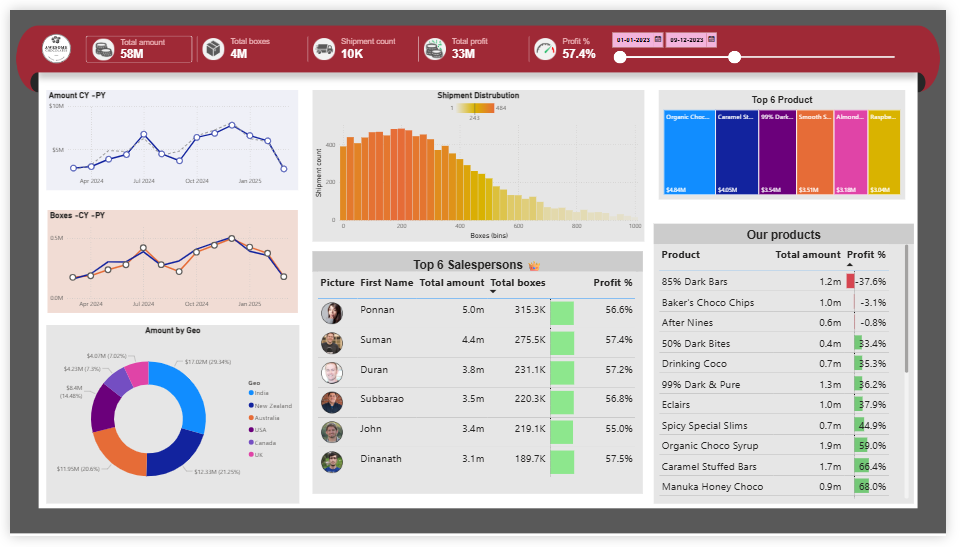

This screenshot's page, from the dashboard's own definition file:
{"tool":"powerbi","page":{"name":"Page 5","canvas":[1920,1080],"ordinal":4},"visuals":[{"type":"lineChart","title":"Amount CY -PY","fields":{"Y":["shipments.Total amount","shipments.Total Amount(last year)"],"Category":["calendar.Start of Month"]},"box":[75,163.9,516.7,205.6],"z":0},{"type":"lineChart","title":"Boxes -CY -PY","fields":{"Y":["shipments.Total boxes","shipments.Total boxs(last year)"],"Category":["calendar.Start of Month"]},"box":[77.8,411.1,513.9,211.1],"z":1000},{"type":"donutChart","title":"Amount by Geo","fields":{"Category":["locations.Geo"],"Y":["shipments.Total amount"]},"box":[75,647.2,519.4,366.7],"z":2000},{"type":"clusteredColumnChart","title":"Shipment Distrubution","fields":{"Category":["shipments.Boxes (bins)"],"Y":["shipments.Shipment count"]},"box":[619.4,163.9,680.6,311.1],"z":3000},{"type":"tableEx","title":"Top 6 Salespersons 👑","fields":{"Values":["people.Picture","people.First Name","shipments.Total amount","shipments.Total boxes","shipments.Profit %"]},"box":[619.4,494.4,677.8,497.2],"z":4000},{"type":"treemap","title":"Top 6 Product","fields":{"Values":["shipments.Total amount"],"Group":["products.Product"]},"box":[1330.6,163.9,505.6,225],"z":5000},{"type":"tableEx","title":"Our products","fields":{"Values":["products.Product","shipments.Total amount","shipments.Profit %"]},"box":[1319.4,438.9,516.7,508.3],"z":6000},{"type":"cardVisual","fields":{"Data":["shipments.Total amount","shipments.Total boxes","shipments.Shipment count","shipments.Total profit","shipments.Profit %"]},"box":[138.5,35.9,1161.5,89.7],"z":7000},{"type":"slicer","fields":{"Values":["calendar.cal_date"]},"box":[1223.1,35.9,612.8,89.7],"z":8000}]}

Visuals, with their boxes in screenshot pixels (x1, y1, x2, y2), scaled from the page's 1920x1080 canvas onto the 962x547 screenshot:
"Amount CY -PY" lineChart: 38/83/296/187
"Boxes -CY -PY" lineChart: 39/208/296/315
"Amount by Geo" donutChart: 38/328/298/514
"Shipment Distrubution" clusteredColumnChart: 310/83/651/241
"Top 6 Salespersons 👑" tableEx: 310/250/650/502
"Top 6 Product" treemap: 667/83/920/197
"Our products" tableEx: 661/222/920/480
cardVisual - shipments.Total amount x shipments.Total boxes: 69/18/651/64
slicer - calendar.cal_date: 613/18/920/64
